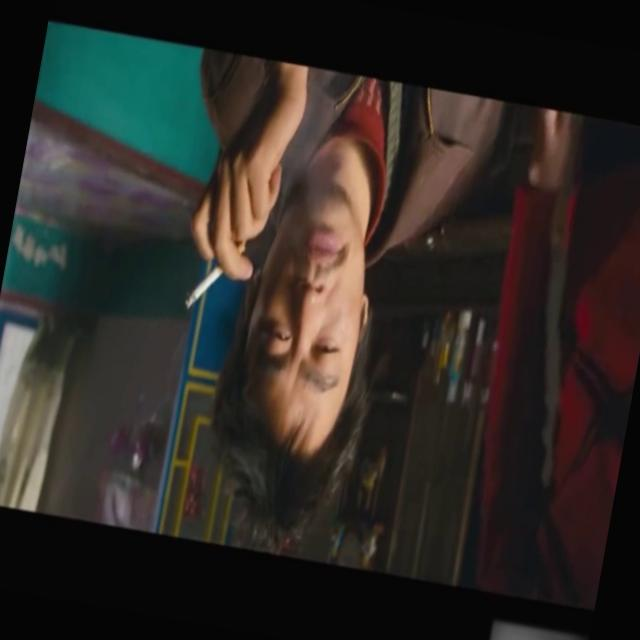cigarette: (183, 259, 224, 313)
